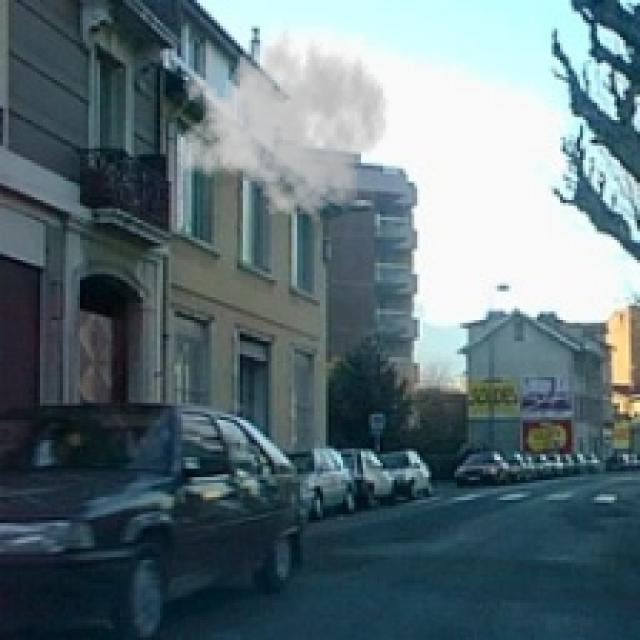smoke: (174, 20, 389, 229)
